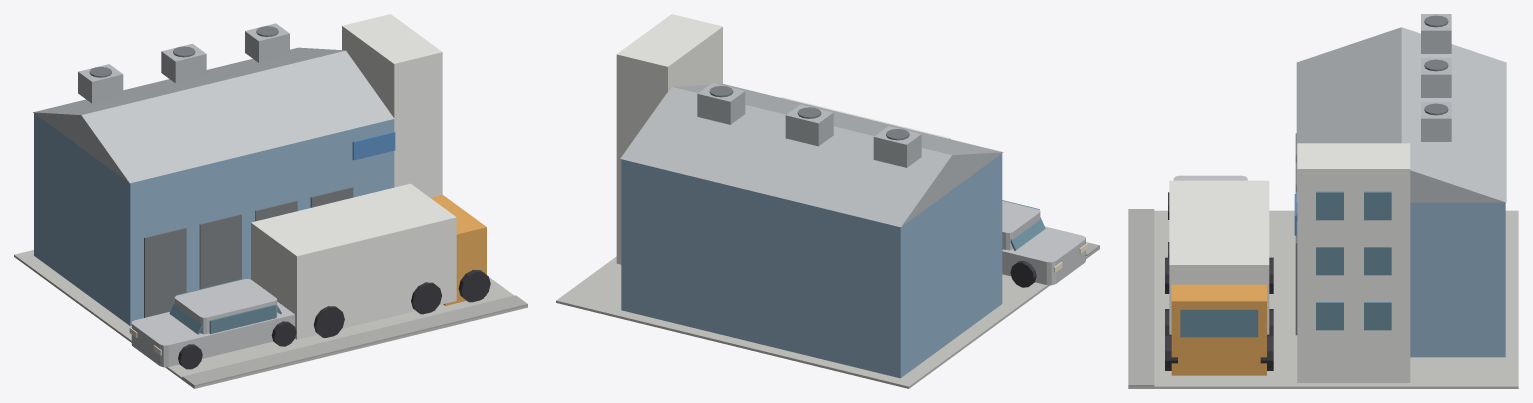
File: factory.fbx
3 renders of one model, left to right at view 1: azimuth 30°, elevation 25°; view 2: azimuth 150°, elevation 25°; view 3: azimuth 270°, elevation 25°, orthographic. The views are drawn at different scales.
Parts seen in each view (by area): view 1: factory; view 2: factory; view 3: factory.
Boxes of the visible parts, <box> form: factory: <box>14,14,527,388</box>; factory: <box>556,14,1099,388</box>; factory: <box>1128,14,1518,388</box>.
Bounding box in the file's own units: 992 × 554 × 900.
